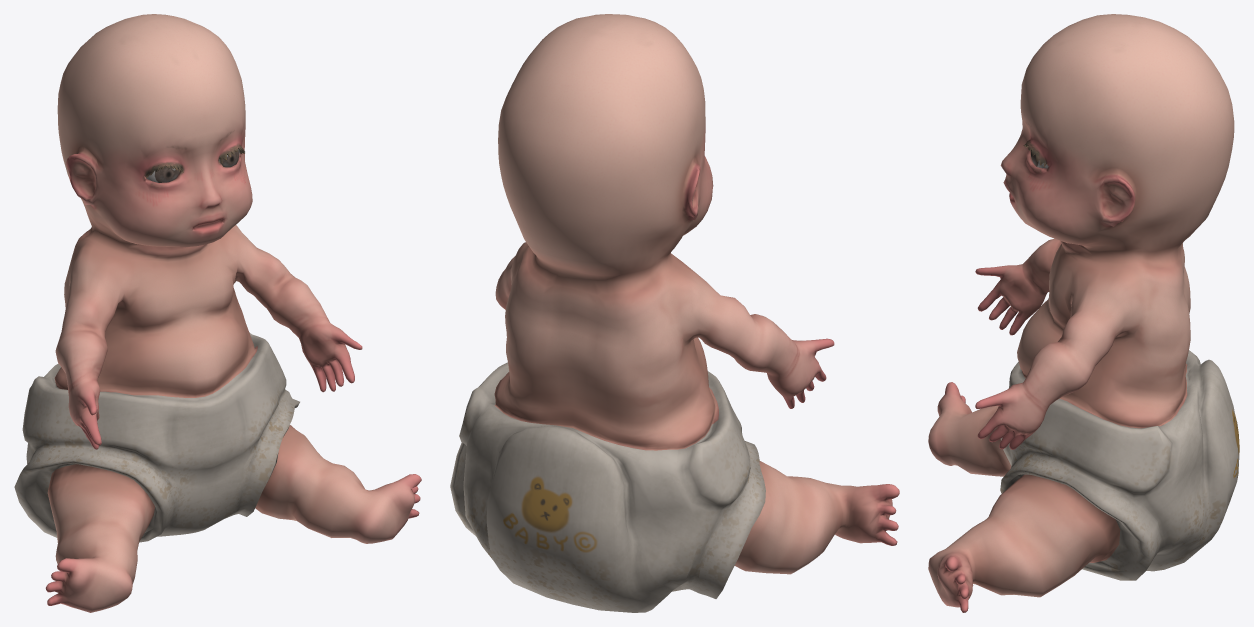
File: Baby.fbx
The picture shows the model from 3 angles, left to right: view 1: azimuth 30°, elevation 25°; view 2: azimuth 150°, elevation 25°; view 3: azimuth 270°, elevation 25°; orthographic projection. The views are drawn at different scales.
Visible parts, largest first — view 1: Baby_low; view 2: Baby_low; view 3: Baby_low.
Boxes of the visible parts, x1=… form: Baby_low: x1=14, y1=14, x2=421, y2=612; Baby_low: x1=450, y1=14, x2=899, y2=612; Baby_low: x1=928, y1=14, x2=1239, y2=612.
Bounding box in the file's own units: 0.7063 × 0.9186 × 0.4935.
1 material, 1 textured.
